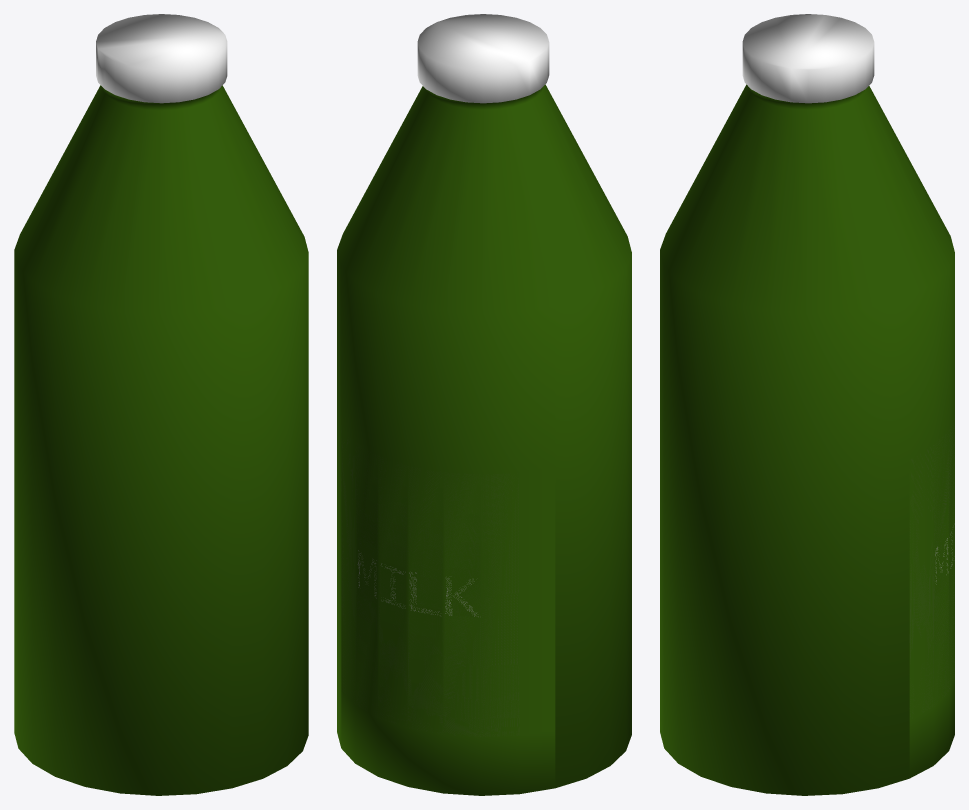
3 views of the same model, side by side, from view 1: azimuth 30°, elevation 25°; view 2: azimuth 150°, elevation 25°; view 3: azimuth 270°, elevation 25° (orthographic).
Visible parts, largest first — view 1: mesh1_mesh1-geometry, mesh2_mesh2-geometry; view 2: mesh1_mesh1-geometry, mesh2_mesh2-geometry; view 3: mesh1_mesh1-geometry, mesh2_mesh2-geometry.
Part boxes in pixels (left/top/right/bottom): mesh1_mesh1-geometry: left=14, top=85, right=308, bottom=795; mesh2_mesh2-geometry: left=96, top=14, right=227, bottom=103; mesh1_mesh1-geometry: left=337, top=84, right=631, bottom=795; mesh2_mesh2-geometry: left=417, top=14, right=549, bottom=103; mesh1_mesh1-geometry: left=660, top=84, right=954, bottom=795; mesh2_mesh2-geometry: left=742, top=14, right=874, bottom=103.
Bounding box in the file's own units: 0.3389 × 0.8777 × 0.3389.
